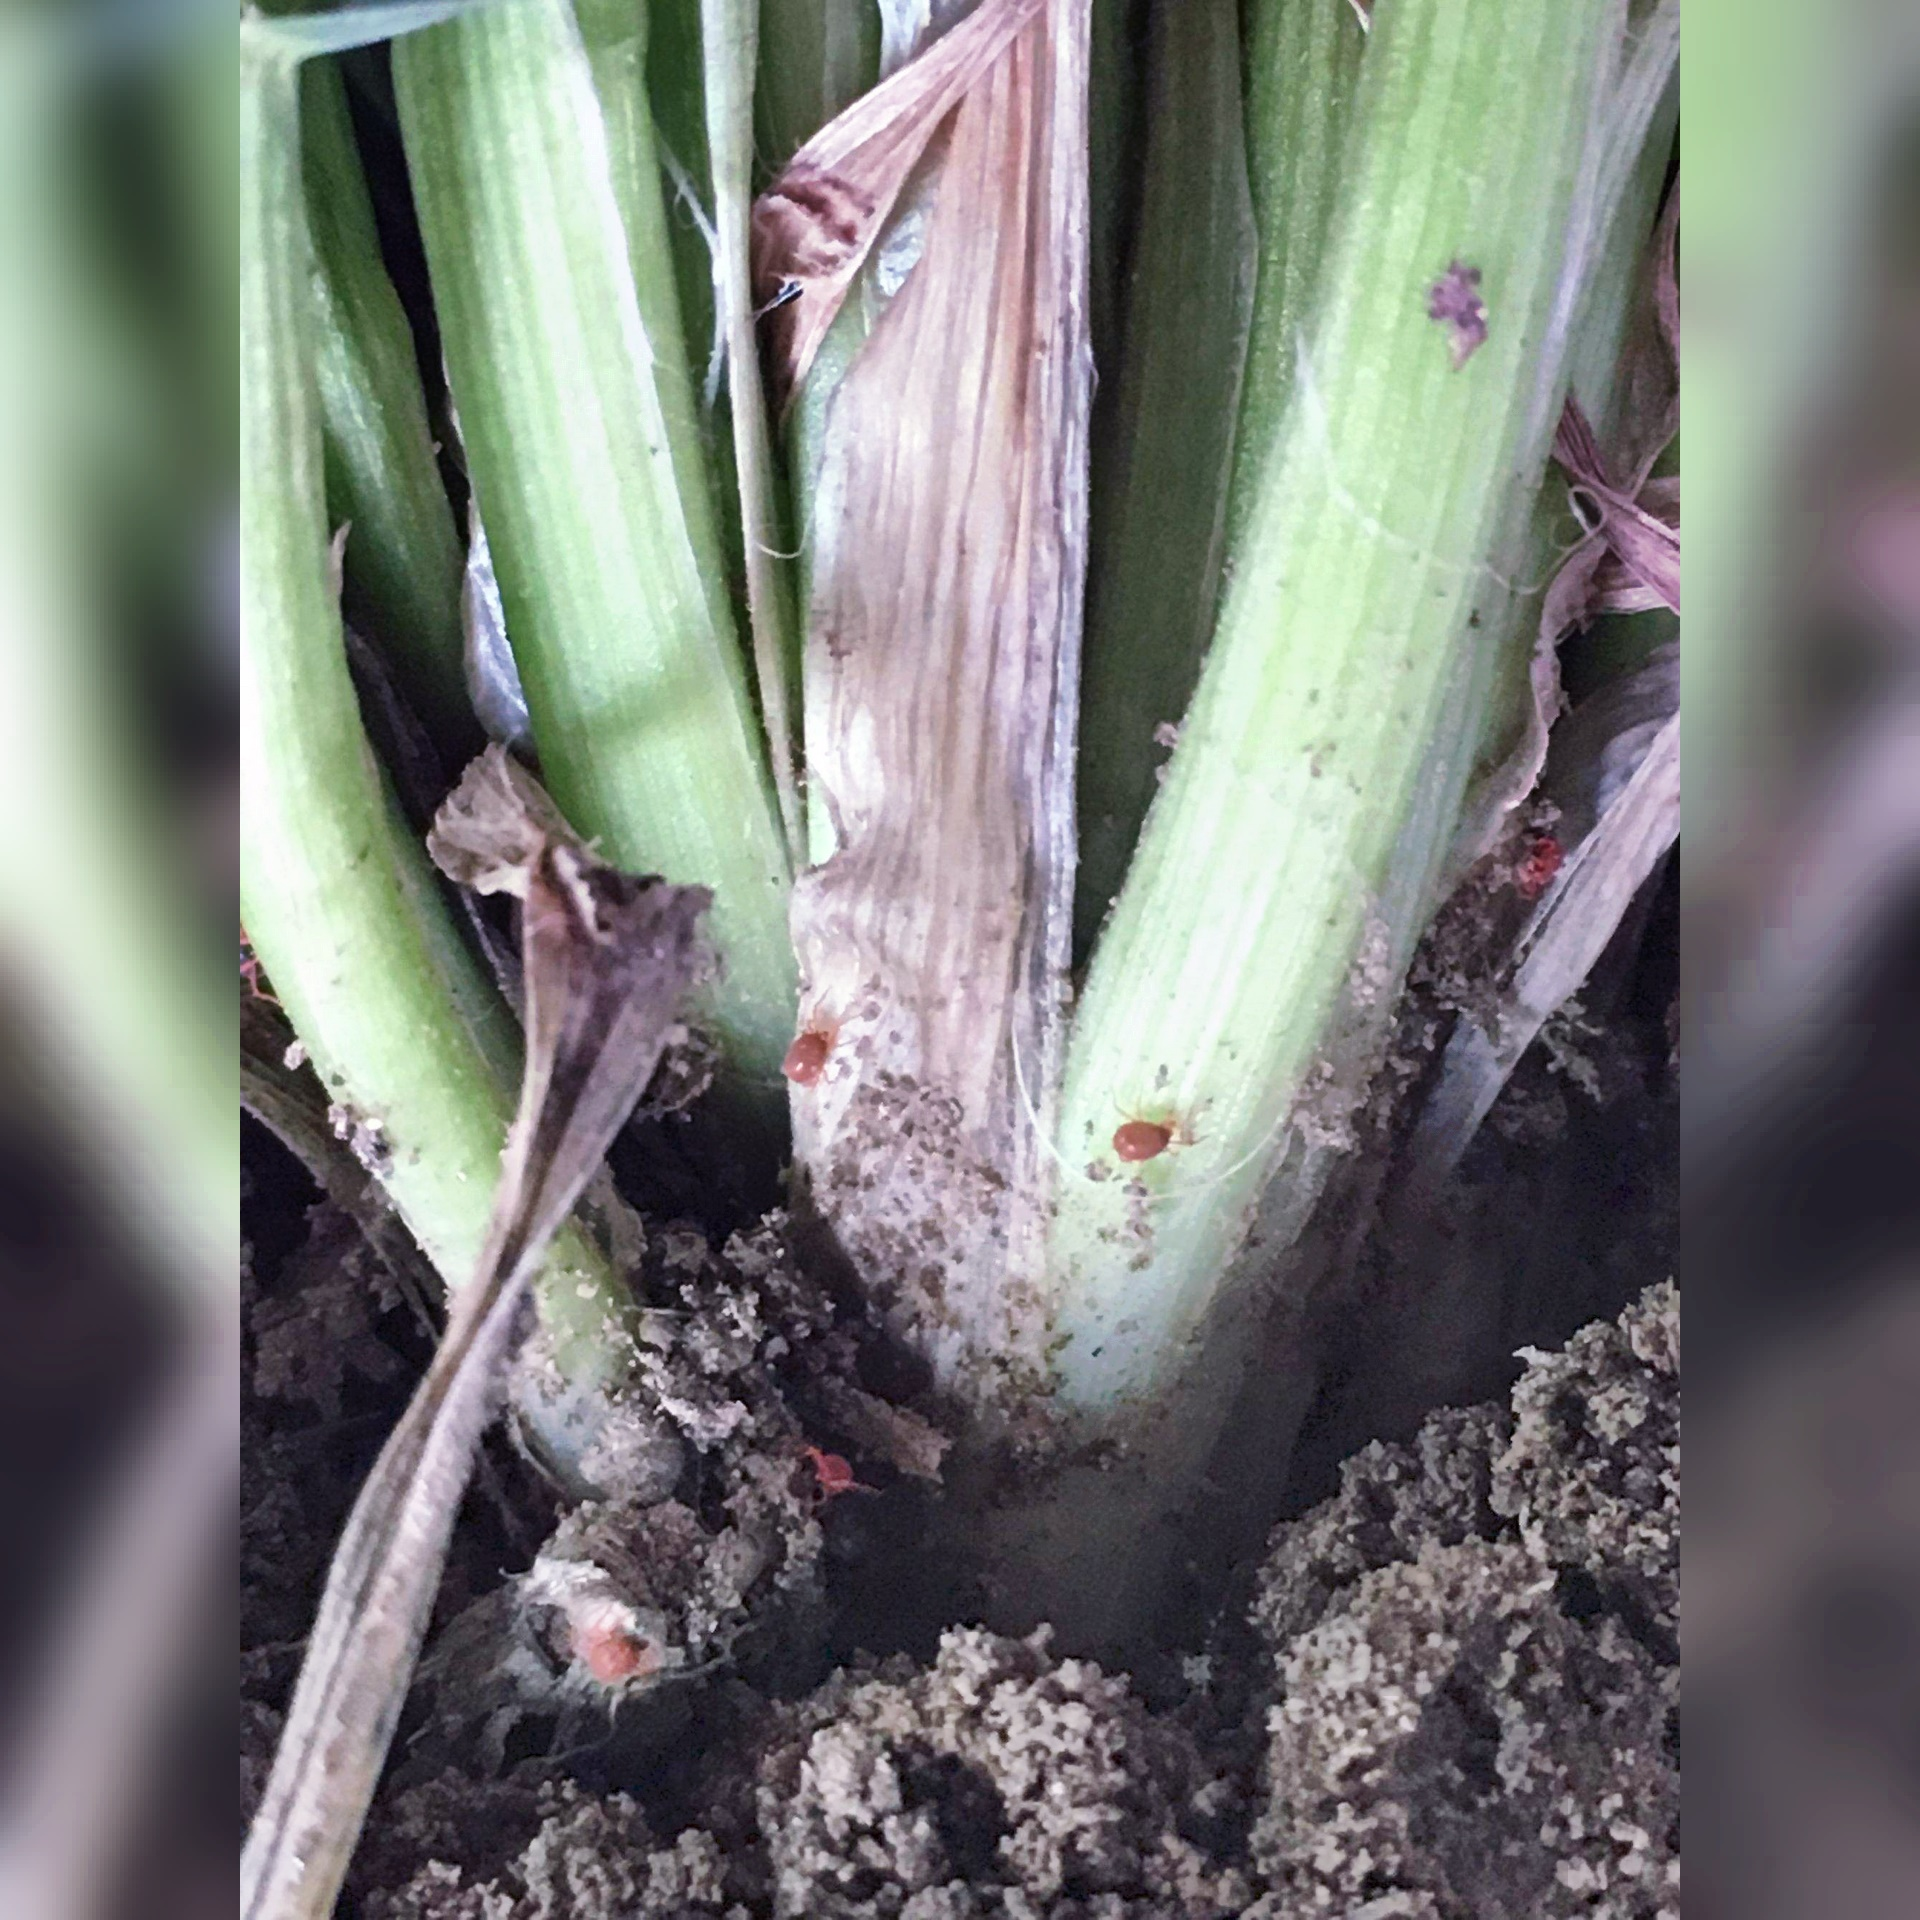Wheat Red Spider: (763, 983, 879, 1115)
